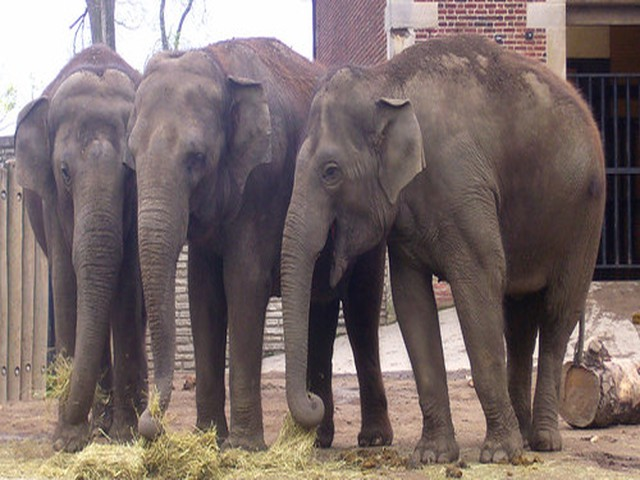Elephant: (11, 37, 607, 467)
